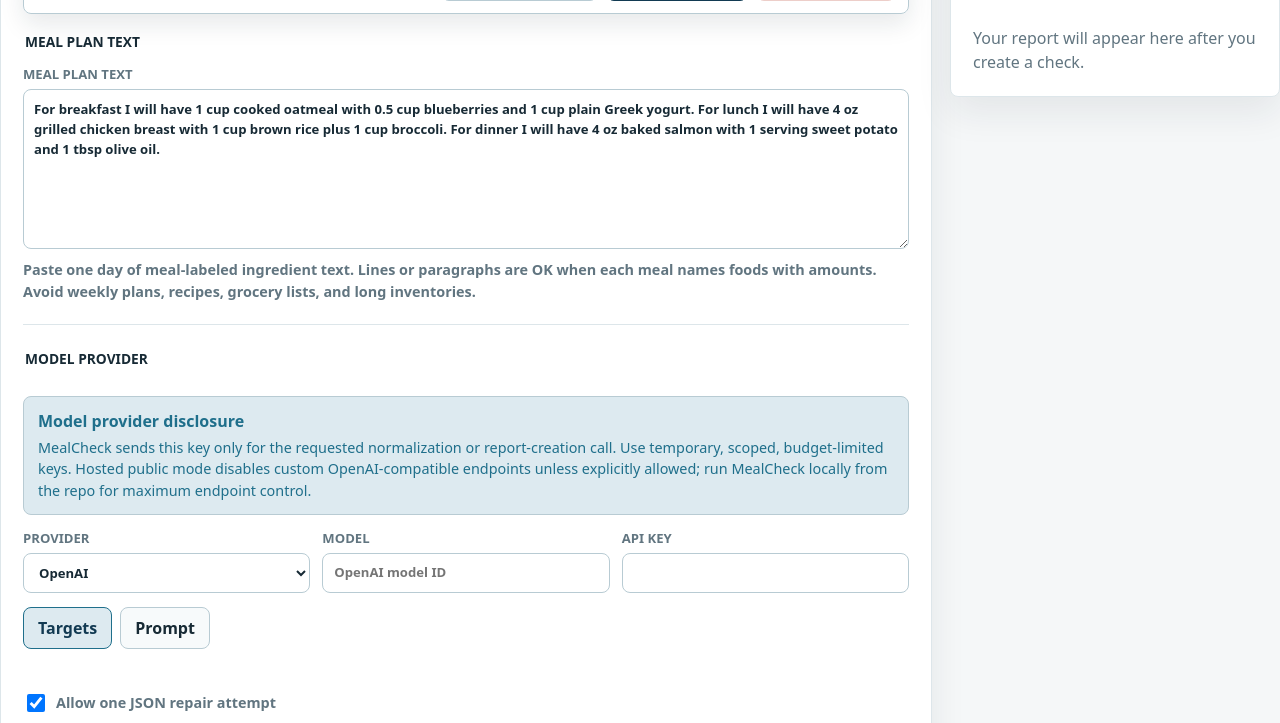
Scenario: LiveWorkspace › switches prompt mode to prompt controls
The width and height of the screenshot is (1280, 723).
Click the button "Prompt" at (165, 628), box [120,607,210,649]
(page scrolled)
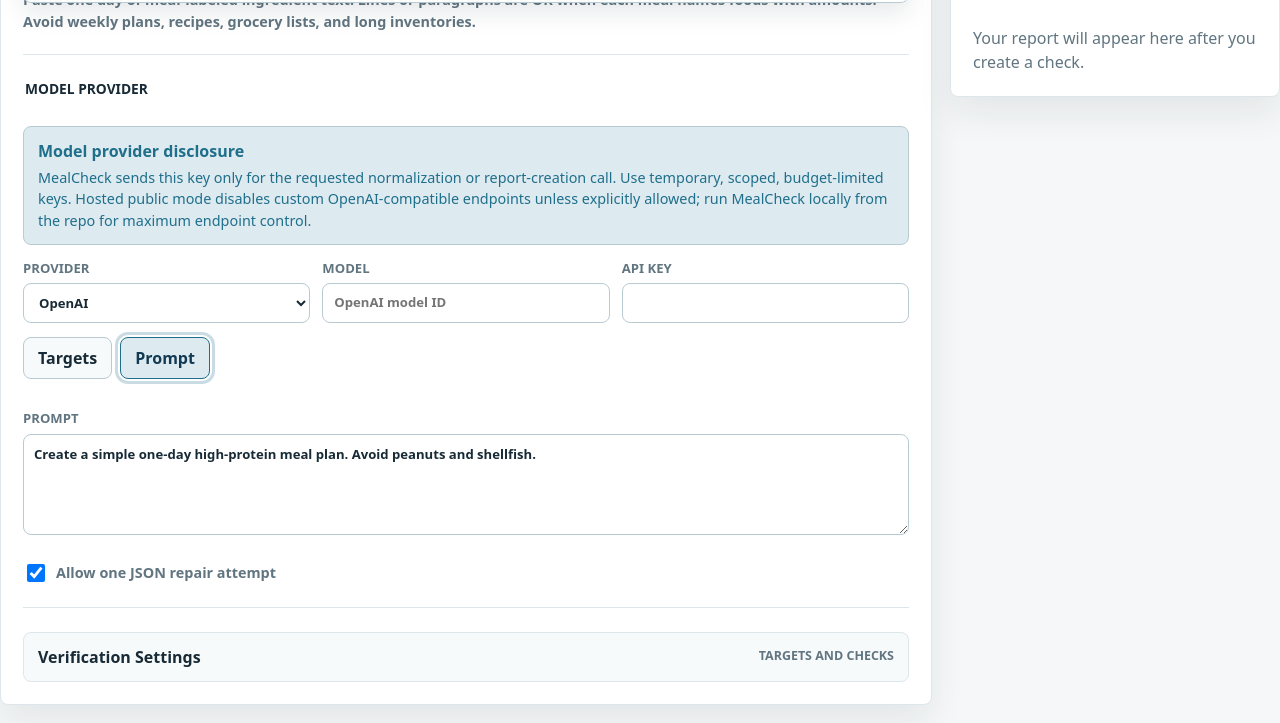
Check: the text "Model provider disclosure" is shown, box [38,140,244,162]
Check: the text box labelled "Prompt" is shown, box [23,434,909,535]
